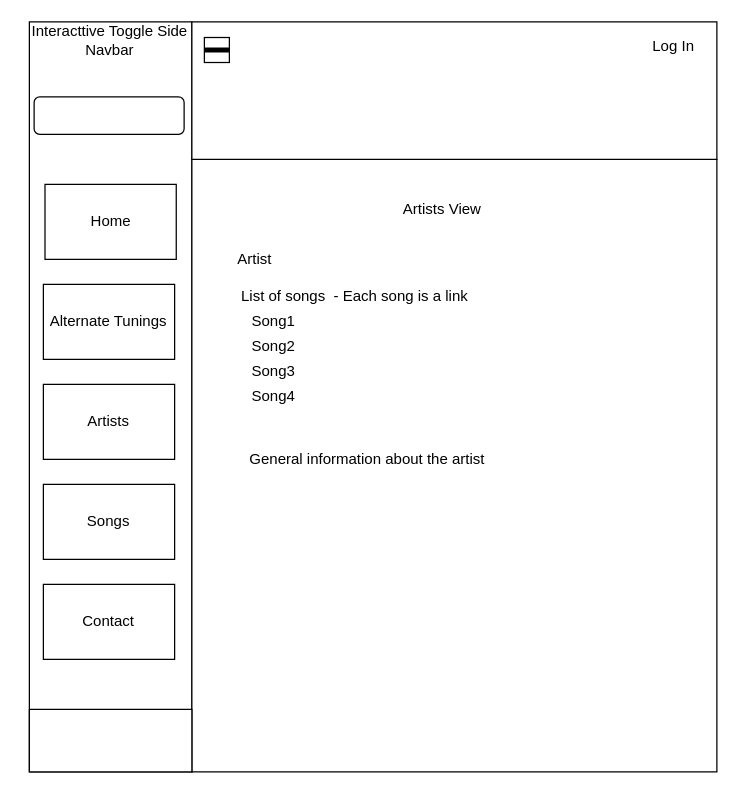
This 739x794 diagram has some shape labels left out. Each missing label, with the box of its shape:
Footer: (28, 708, 192, 772)
Header: (191, 21, 717, 159)
Search Bar: (33, 96, 184, 134)
